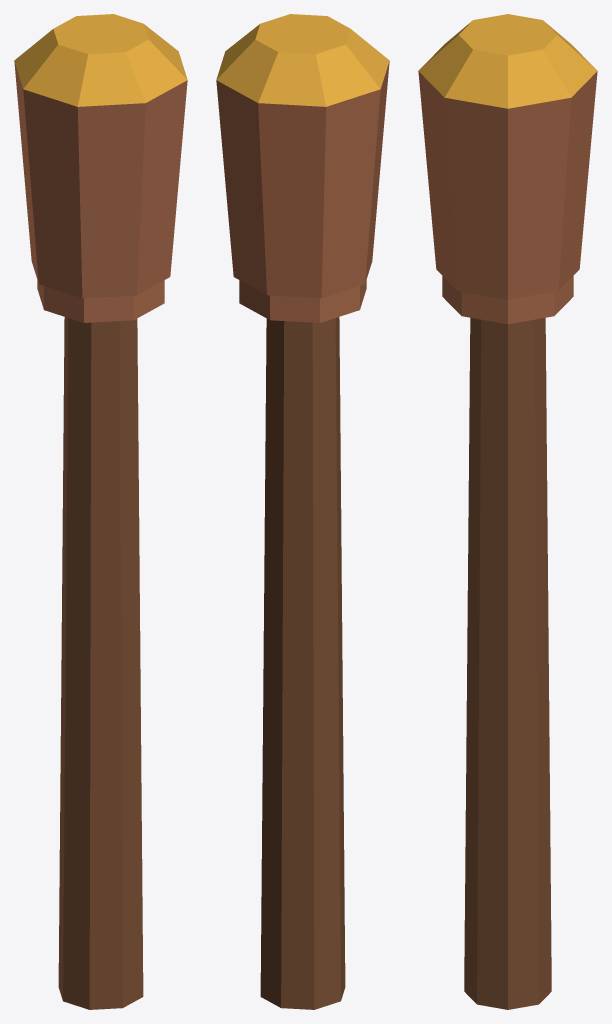
File: torch.glb
3 renders of one model, left to right at view 1: azimuth 30°, elevation 25°; view 2: azimuth 150°, elevation 25°; view 3: azimuth 270°, elevation 25°, orthographic.
Parts seen in each view (by area): view 1: torch; view 2: torch; view 3: torch.
Boxes of the visible parts, x1,y1,x2,y2 form: torch: [14, 14, 187, 1009]; torch: [216, 14, 389, 1009]; torch: [418, 14, 597, 1009].
Bounding box in the file's own units: 0.09 × 0.53 × 0.09.
